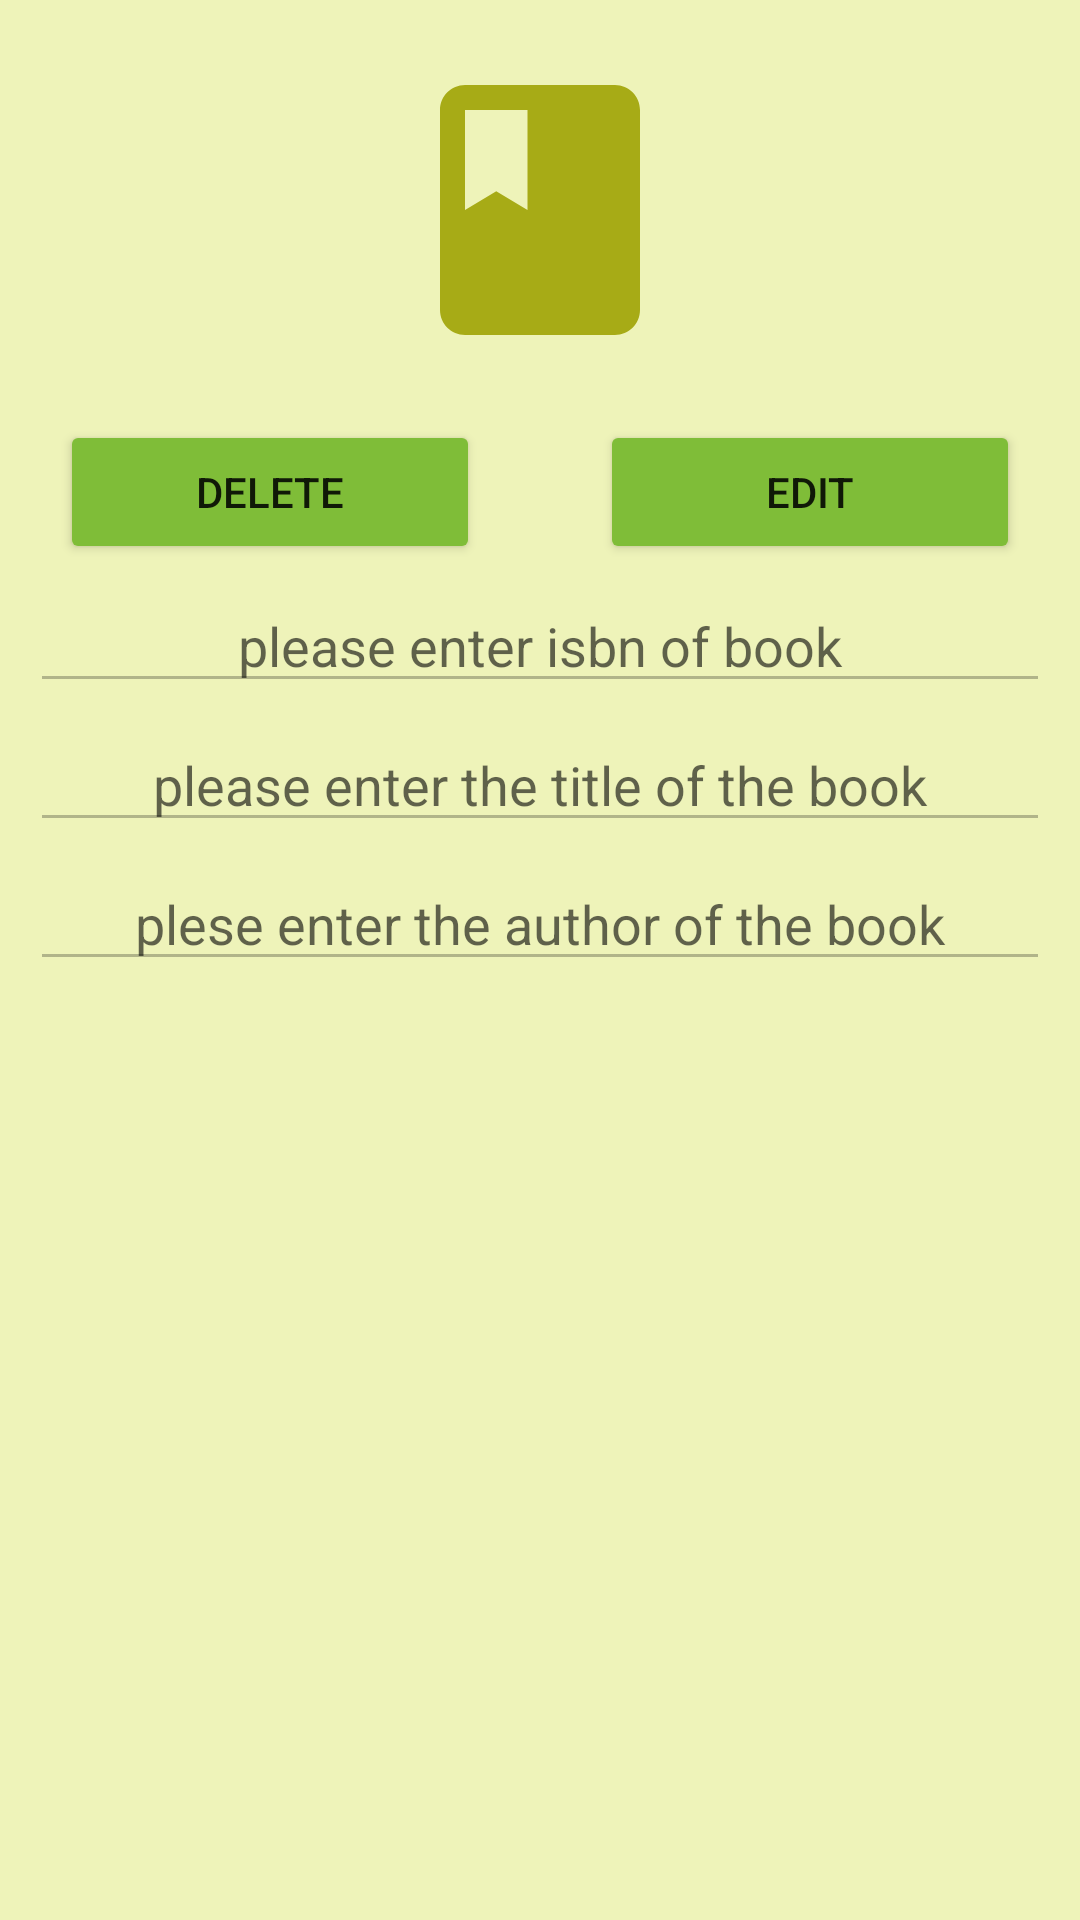

Point at icon controls on the screen. Image size 1080px×1920px, points as (x=x, y=y).
book: (x=540, y=210)
